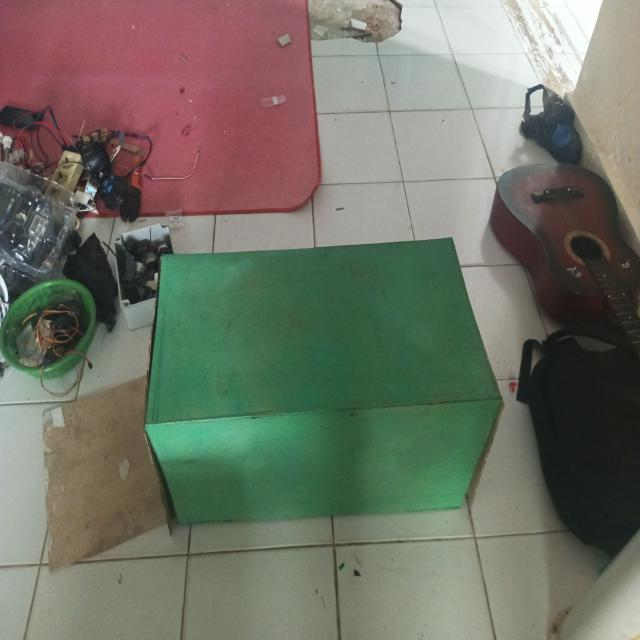green_box: (115, 204, 521, 629)
